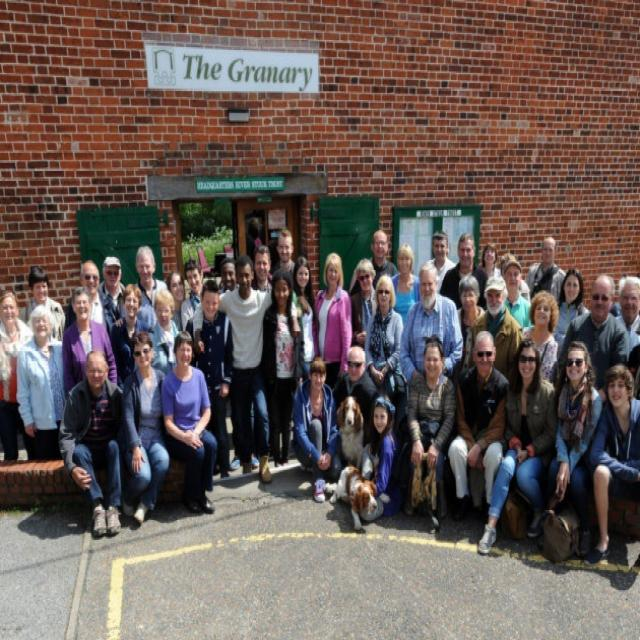body: (0, 466, 639, 594), (524, 234, 640, 640), (191, 253, 303, 484), (475, 334, 559, 554), (56, 346, 129, 538), (542, 336, 602, 557), (446, 326, 510, 533), (398, 334, 456, 534), (160, 327, 218, 517), (588, 360, 639, 567), (185, 278, 235, 483), (122, 330, 172, 526), (555, 273, 630, 397), (260, 267, 304, 469), (14, 303, 66, 461), (398, 260, 464, 384), (290, 353, 344, 503), (0, 288, 37, 463), (61, 286, 118, 398), (465, 274, 523, 380), (310, 248, 352, 393), (287, 255, 320, 434), (359, 391, 402, 523), (110, 281, 155, 390), (65, 257, 121, 339), (366, 274, 405, 390), (439, 231, 490, 313), (331, 344, 380, 422), (521, 289, 560, 387), (552, 267, 592, 362), (16, 266, 67, 340), (130, 243, 171, 328), (456, 273, 487, 377), (149, 286, 180, 374), (389, 243, 420, 328), (349, 257, 377, 350), (501, 256, 535, 331), (612, 272, 640, 361), (423, 228, 459, 296), (179, 254, 206, 332), (499, 250, 533, 309), (369, 227, 398, 290), (96, 254, 126, 309), (272, 227, 297, 287), (167, 270, 188, 331), (252, 243, 273, 293), (216, 256, 241, 296), (478, 243, 502, 280), (241, 214, 264, 247)
